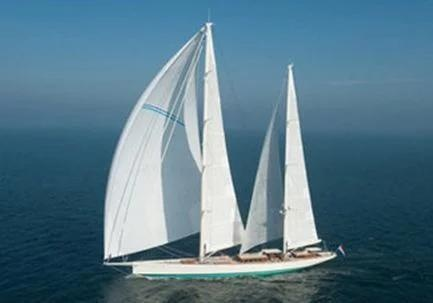fanchuan: (100, 8, 337, 282)
